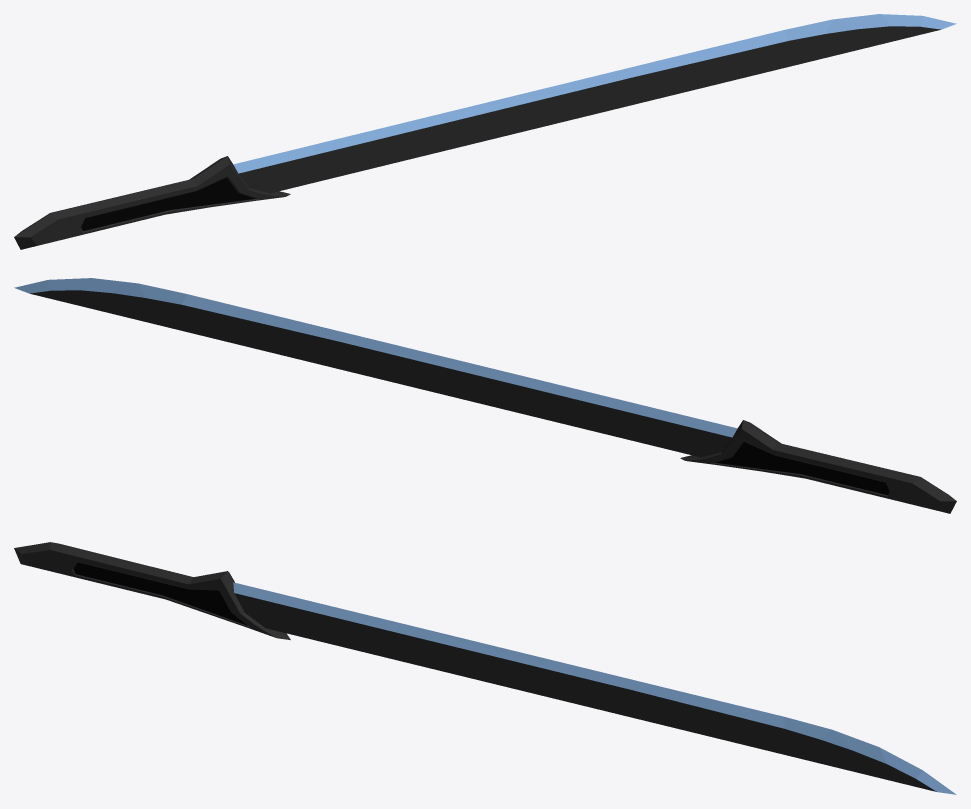
Rendered from blade.fbx.
3 views of the same model, one above another, from view 1: azimuth 30°, elevation 25°; view 2: azimuth 150°, elevation 25°; view 3: azimuth 330°, elevation 25° (orthographic).
Parts seen in each view (by area): view 1: Cube; view 2: Cube; view 3: Cube.
Boxes of the visible parts, x1=… form: Cube: x1=14, y1=14, x2=956, y2=249; Cube: x1=14, y1=278, x2=956, y2=513; Cube: x1=14, y1=542, x2=956, y2=794.
Size of the model in its own units: 321 by 17.52 by 5.11.
